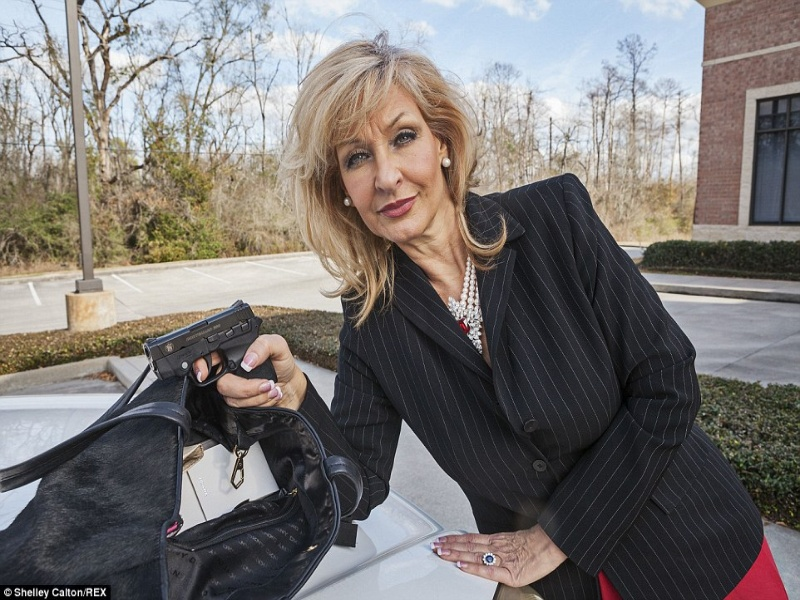gun: (135, 300, 286, 402)
